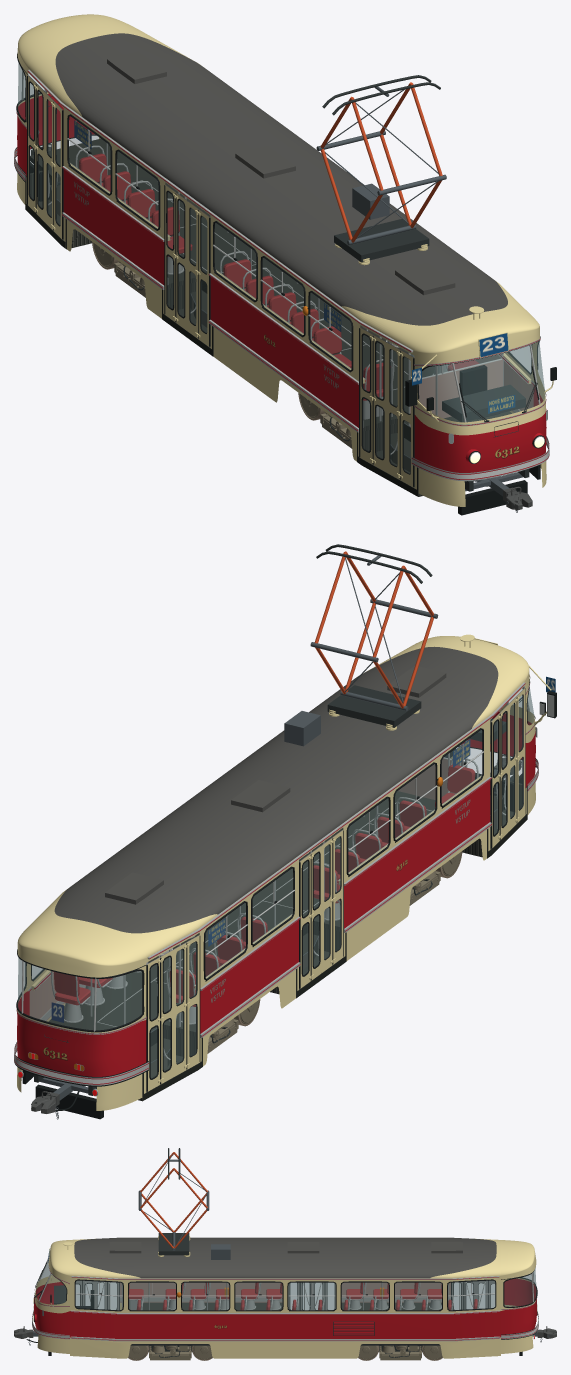
File: tatra-t3-6312.glb
The picture shows the model from 3 angles, top to bottom: view 1: azimuth 30°, elevation 25°; view 2: azimuth 150°, elevation 25°; view 3: azimuth 270°, elevation 25°; orthographic projection. The views are drawn at different scales.
Visible parts, largest first — view 1: Body_Roof_grey, Body_Ivory_enamel, Body_Prague_red_enamel, Body_Window_glass, Interior_Floor, Exterior_details_Aluminium, Interior_Red_seat_cushion, Exterior_details_Roof_grey, Body_Rubber, Exterior_details_Rubber, Interior_Interior_laminate, Pantograph_Underframe (+32 smaller); view 2: Body_Roof_grey, Body_Ivory_enamel, Body_Prague_red_enamel, Body_Window_glass, Interior_Floor, Exterior_details_Aluminium, Interior_Red_seat_cushion, Exterior_details_Roof_grey, Exterior_details_Rubber, Body_Rubber, Interior_Aluminium, Pantograph_Underframe (+23 smaller); view 3: Body_Roof_grey, Body_Ivory_enamel, Body_Prague_red_enamel, Body_Window_glass, Exterior_details_Aluminium, Interior_Interior_laminate, Interior_Red_seat_cushion, Body_Rubber, Exterior_details_Prague_red_enamel, Interior_Aluminium, Interior_Handrails, Exterior_details_Roof_grey (+8 smaller).
Boxes of the visible parts, x1=… form: Body_Roof_grey: x1=55, y1=33, x2=507, y2=325; Body_Ivory_enamel: x1=17, y1=14, x2=546, y2=506; Body_Prague_red_enamel: x1=17, y1=93, x2=546, y2=472; Body_Window_glass: x1=18, y1=63, x2=544, y2=421; Interior_Floor: x1=25, y1=138, x2=511, y2=496; Exterior_details_Aluminium: x1=14, y1=69, x2=549, y2=481; Interior_Red_seat_cushion: x1=79, y1=153, x2=478, y2=400; Exterior_details_Roof_grey: x1=107, y1=51, x2=455, y2=295; Body_Rubber: x1=67, y1=114, x2=532, y2=375; Exterior_details_Rubber: x1=14, y1=53, x2=556, y2=515; Interior_Interior_laminate: x1=410, y1=355, x2=533, y2=426; Pantograph_Underframe: x1=334, y1=219, x2=429, y2=262; Body_Roof_grey: x1=54, y1=646, x2=498, y2=933; Body_Ivory_enamel: x1=17, y1=636, x2=535, y2=1110; Body_Prague_red_enamel: x1=17, y1=711, x2=535, y2=1076; Body_Window_glass: x1=17, y1=686, x2=534, y2=1029; Interior_Floor: x1=48, y1=779, x2=527, y2=1101; Exterior_details_Aluminium: x1=14, y1=675, x2=554, y2=1096; Interior_Red_seat_cushion: x1=53, y1=764, x2=475, y2=1006; Exterior_details_Roof_grey: x1=105, y1=666, x2=446, y2=904; Exterior_details_Rubber: x1=14, y1=679, x2=556, y2=1119; Body_Rubber: x1=31, y1=728, x2=483, y2=981; Interior_Aluminium: x1=35, y1=745, x2=481, y2=1026; Pantograph_Underframe: x1=327, y1=685, x2=421, y2=727; Body_Roof_grey: x1=74, y1=1237, x2=496, y2=1278; Body_Ivory_enamel: x1=34, y1=1238, x2=536, y2=1358; Body_Prague_red_enamel: x1=34, y1=1278, x2=536, y2=1338; Body_Window_glass: x1=36, y1=1261, x2=536, y2=1309; Exterior_details_Aluminium: x1=32, y1=1258, x2=538, y2=1341; Interior_Interior_laminate: x1=120, y1=1282, x2=450, y2=1302; Interior_Red_seat_cushion: x1=128, y1=1282, x2=477, y2=1310; Body_Rubber: x1=74, y1=1279, x2=496, y2=1311; Exterior_details_Prague_red_enamel: x1=33, y1=1270, x2=537, y2=1340; Interior_Aluminium: x1=109, y1=1282, x2=479, y2=1310; Interior_Handrails: x1=122, y1=1282, x2=460, y2=1310; Exterior_details_Roof_grey: x1=109, y1=1242, x2=462, y2=1253.
Size of the model in its own units: 2.77 by 5.83 by 15.1.
Materials: 20 (2 with a texture image).
